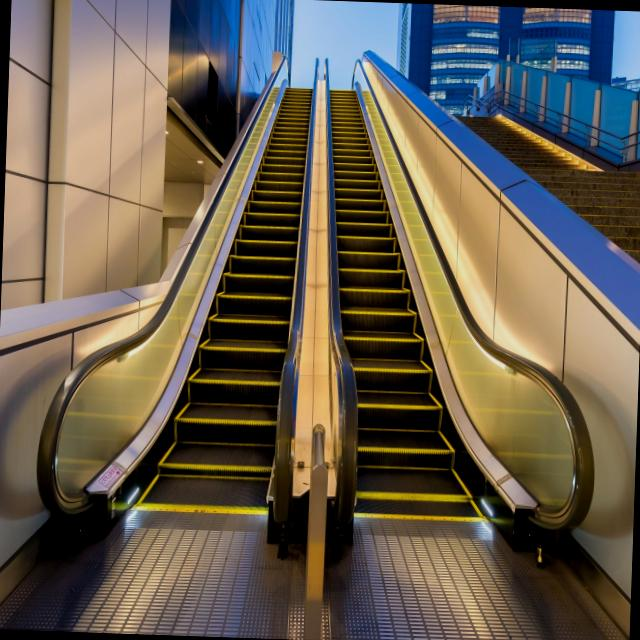escalator: (2, 40, 627, 640)
